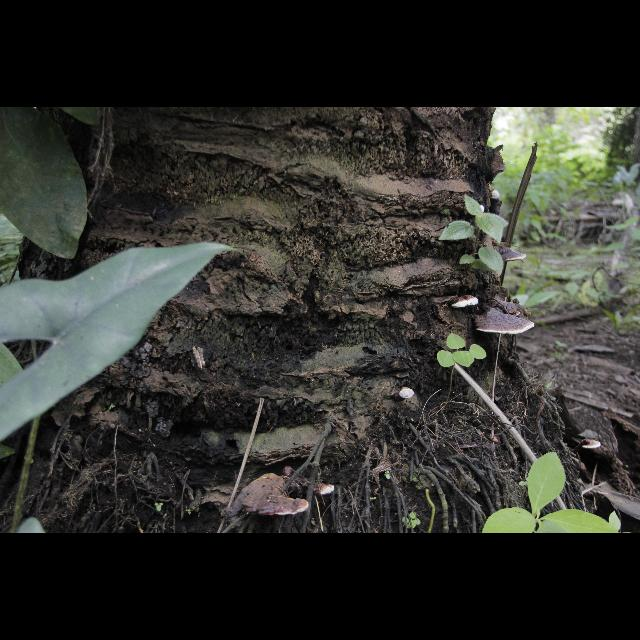ganoderma: (242, 475, 310, 518), (476, 308, 536, 336), (485, 302, 521, 318), (500, 248, 528, 263), (574, 440, 602, 454), (453, 296, 480, 310), (313, 484, 335, 497)
primordium: (400, 388, 416, 400), (491, 190, 502, 200), (481, 206, 486, 214)
